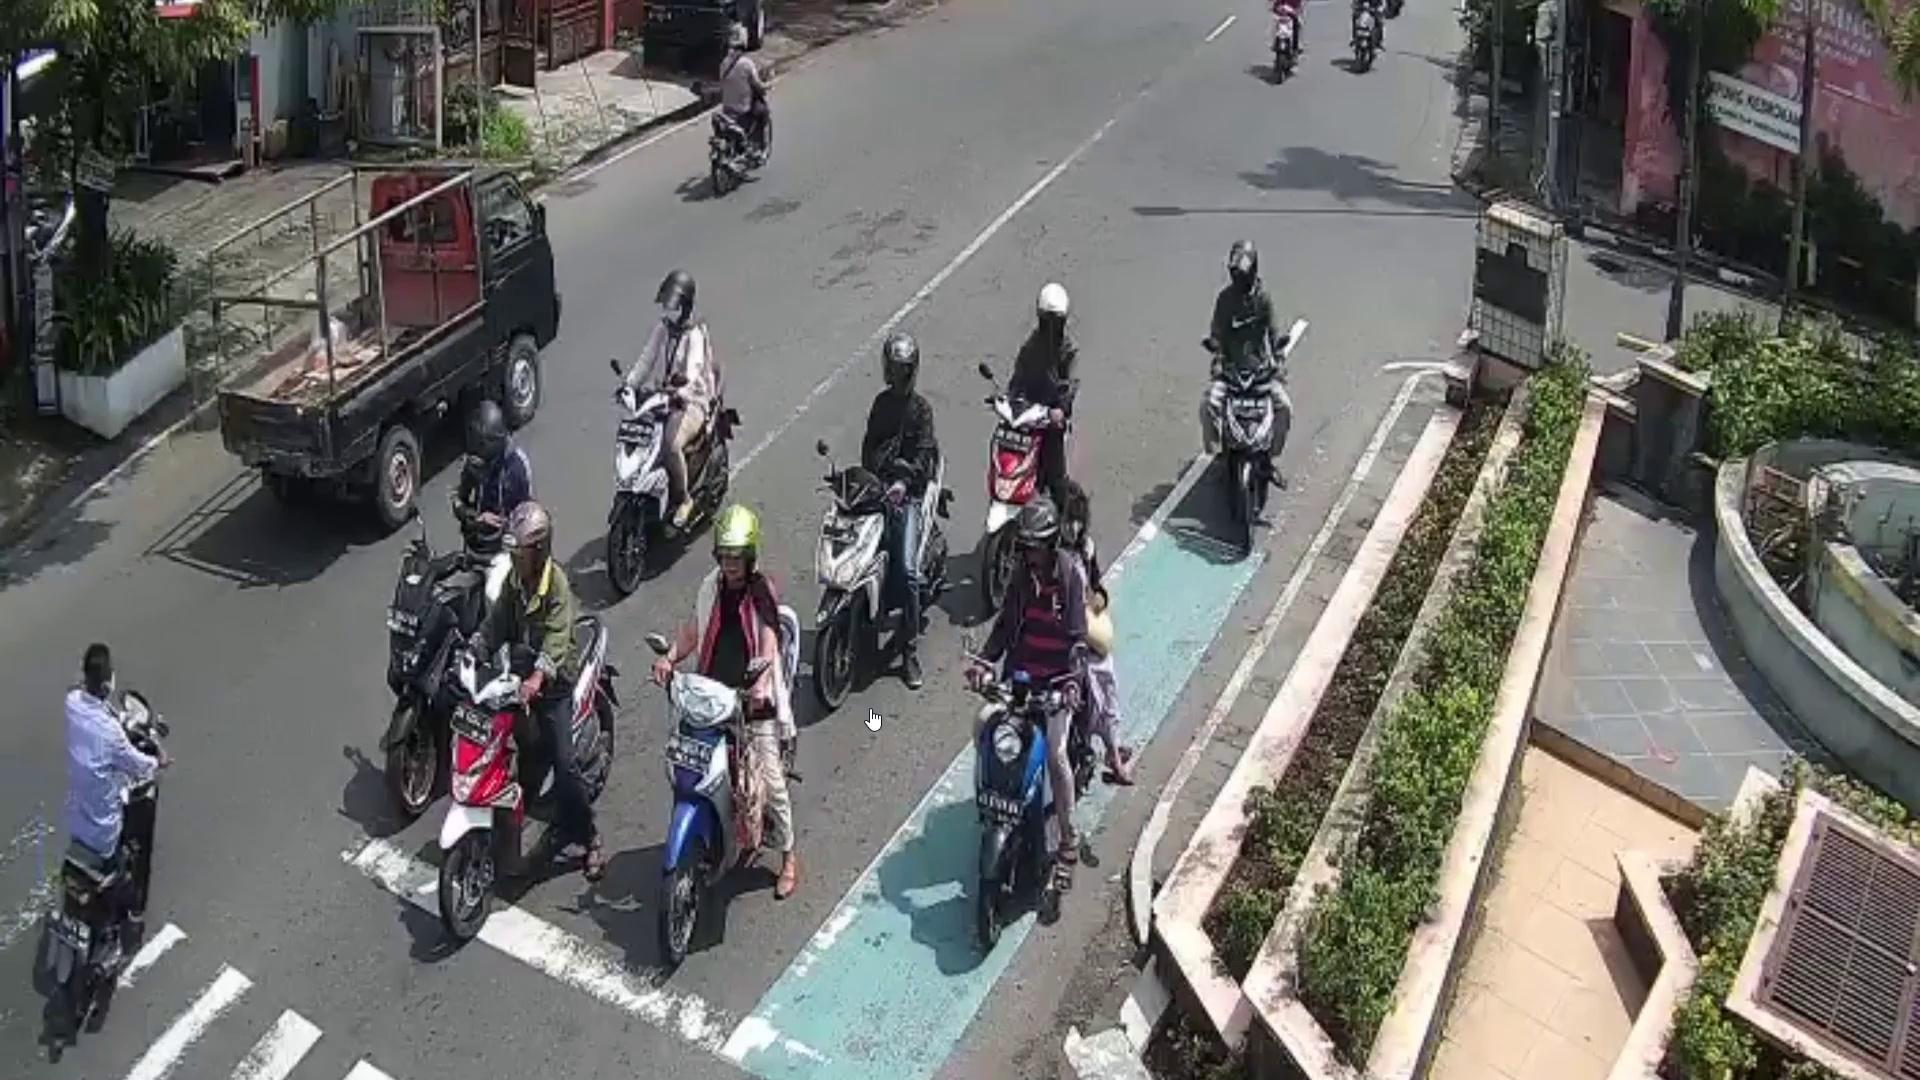car: (220, 169, 562, 530)
motorbike: (440, 608, 611, 948), (659, 600, 806, 948), (55, 690, 167, 1025), (818, 444, 947, 728), (382, 542, 484, 822), (608, 360, 727, 593), (972, 670, 1055, 943), (982, 392, 1050, 600), (1212, 365, 1283, 545), (709, 74, 771, 200)
